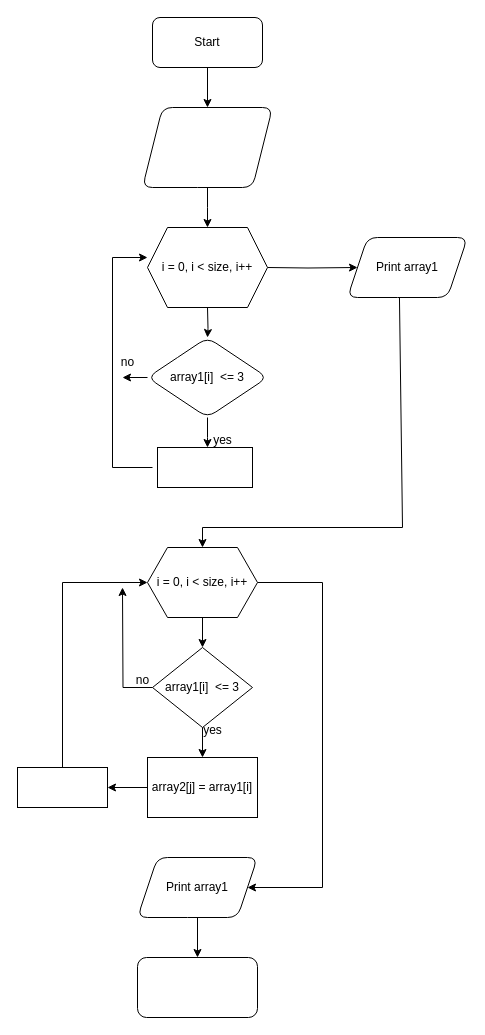
Some shapes in this 485 by 1035 pixel diagram are drawn without their labels. Here are the shapes that lost their labels. From the top down, the centre of each, then its label:
(207,147): array1 array2 size count = 0 maxSymbols = 3
(204,467): count++
(62,787): j++
(197,987): Finish
